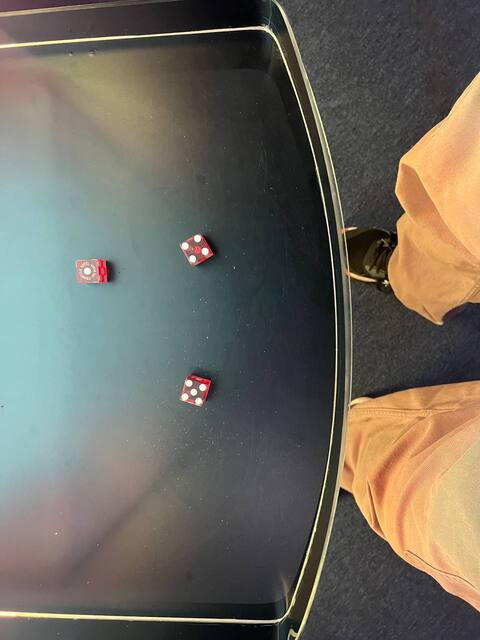five: (176, 377, 211, 407)
four: (176, 231, 216, 268)
one: (72, 255, 102, 287)
